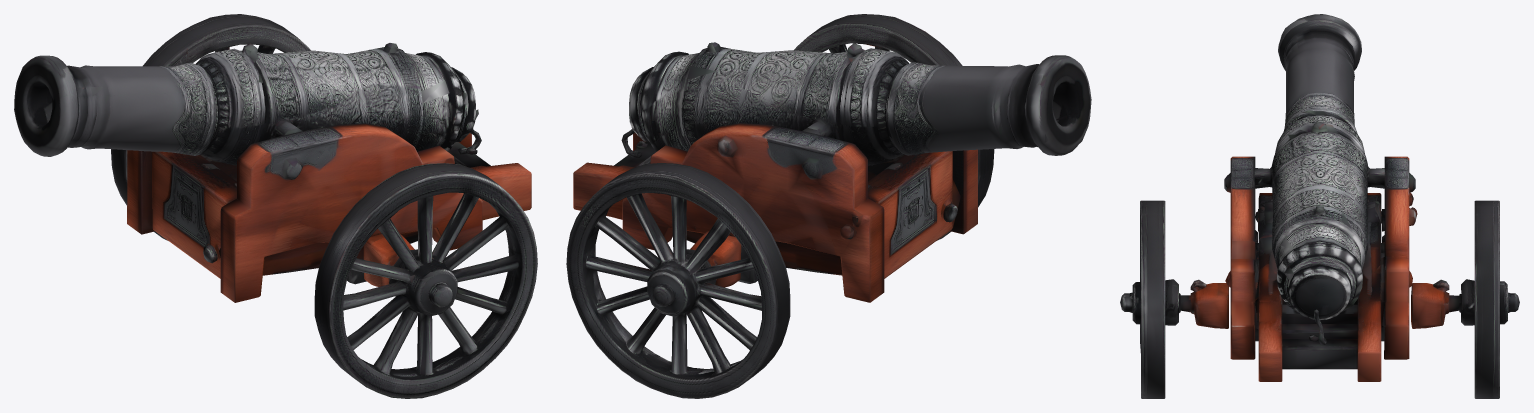
File: Cannon.fbx
3 renders of one model, left to right at view 1: azimuth 30°, elevation 25°; view 2: azimuth 150°, elevation 25°; view 3: azimuth 270°, elevation 25°, orthographic. The views are drawn at different scales.
Visible parts, largest first — view 1: Mesh_0; view 2: Mesh_0; view 3: Mesh_0.
Part boxes in pixels (left/top/right/bottom): Mesh_0: left=14, top=14, right=537, bottom=398; Mesh_0: left=566, top=14, right=1091, bottom=398; Mesh_0: left=1120, top=14, right=1519, bottom=398.
Size of the model in its own units: 190 by 126 by 173.
Materials: 1 (1 with a texture image).
